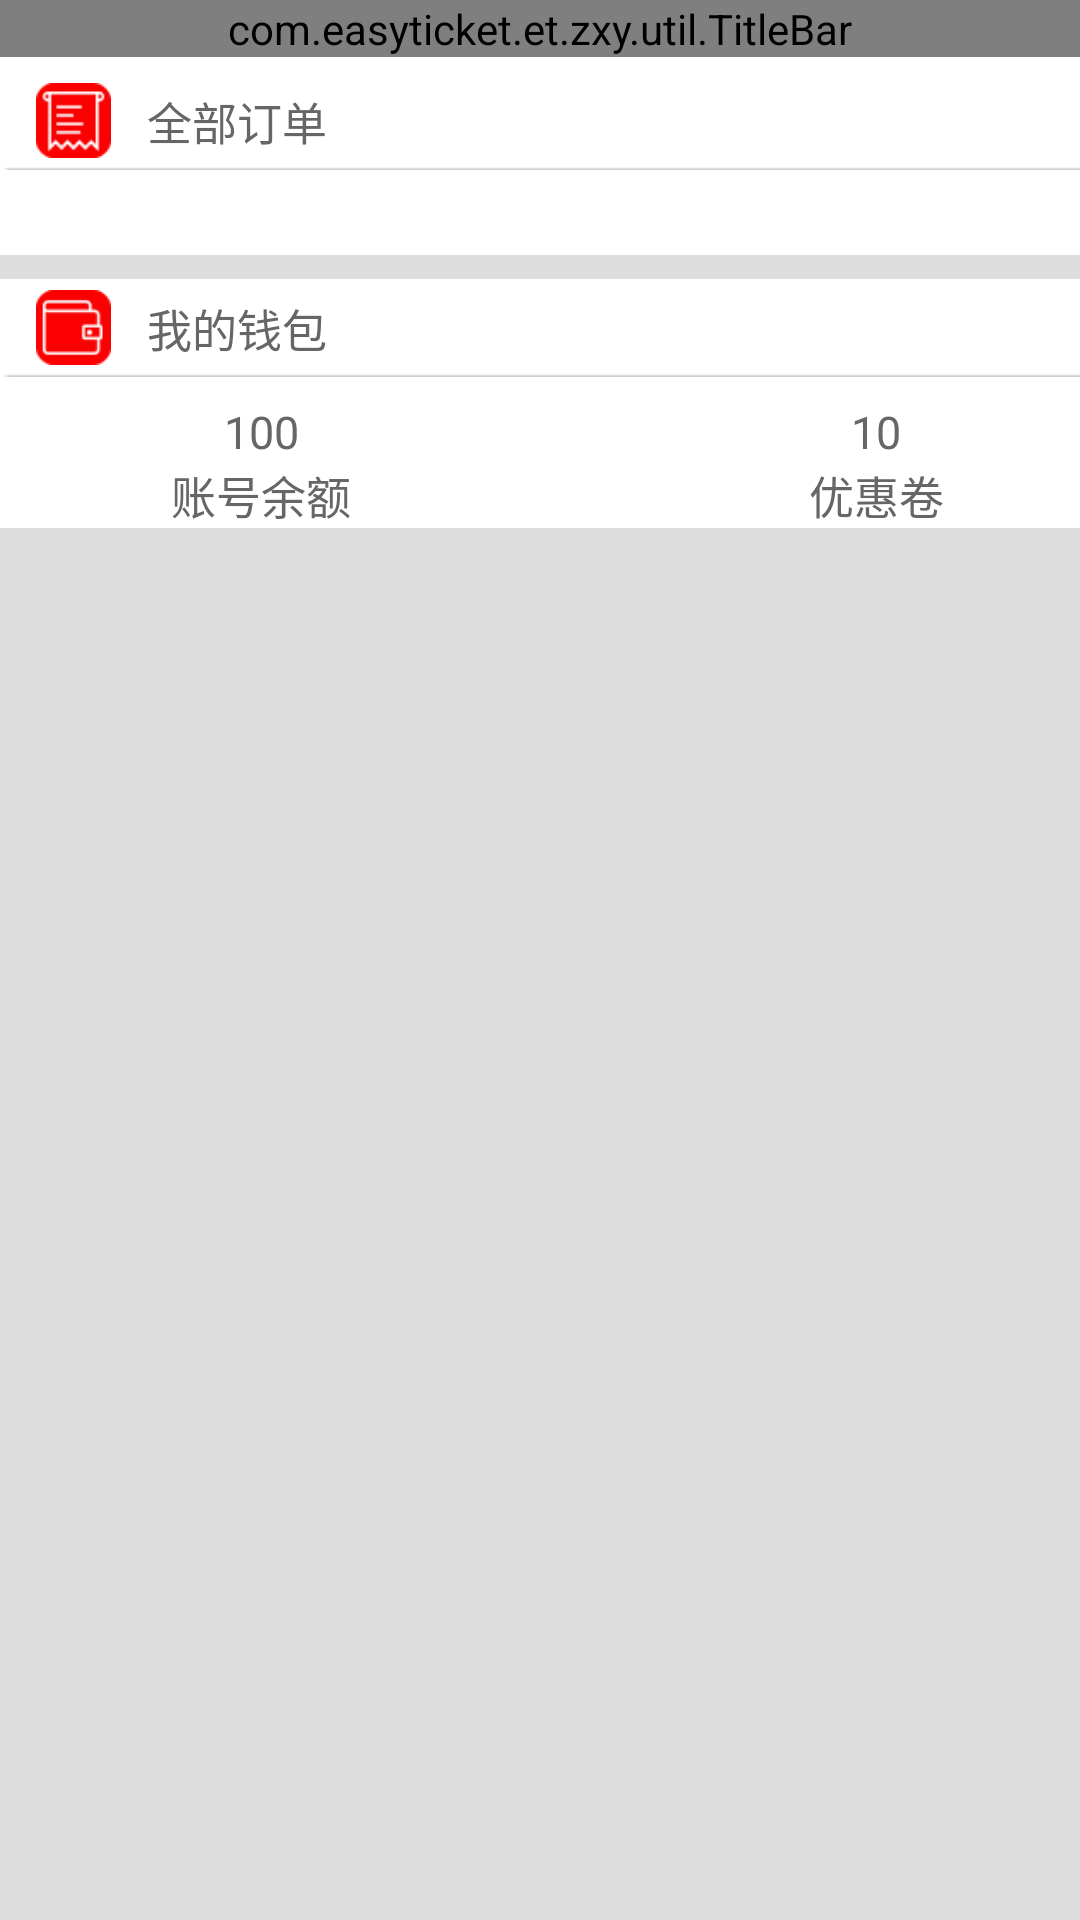

Named icons in this screenshot (1080 × 1920) and their centers, point (x, y):
alldeal: point (73, 120)
redwallet: point (73, 327)
